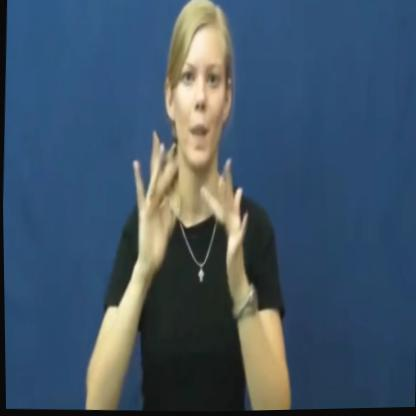Internet: (127, 123, 251, 314)
